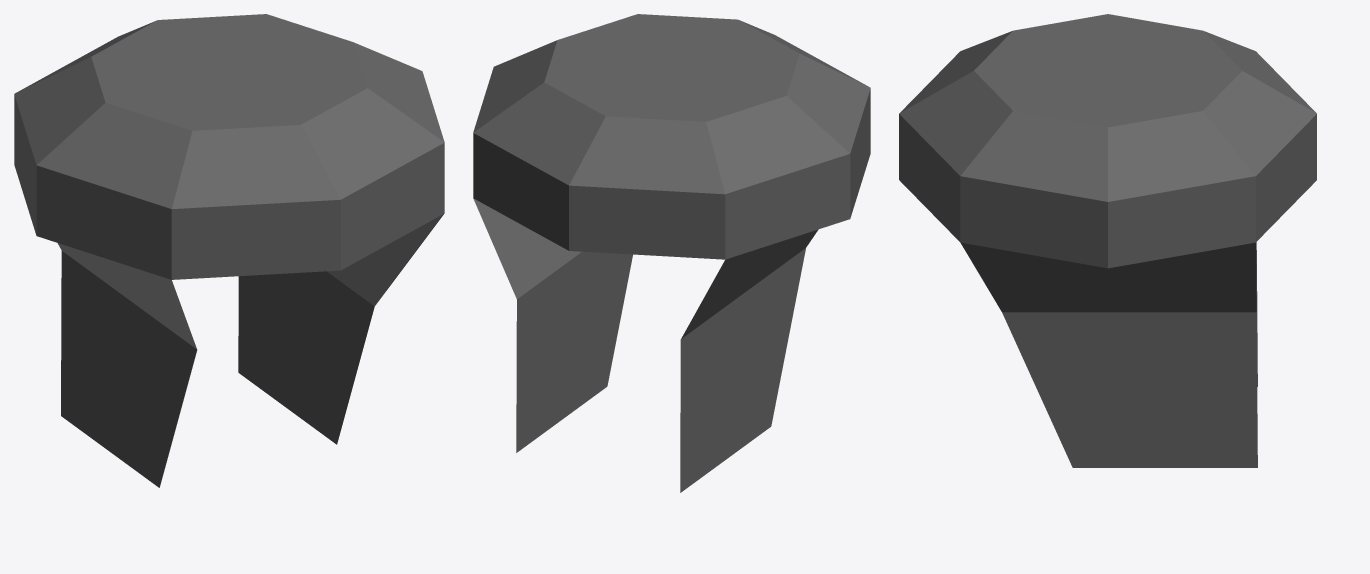
The model's file is wheel.fbx.
The picture shows the model from 3 angles, left to right: view 1: azimuth 30°, elevation 25°; view 2: azimuth 150°, elevation 25°; view 3: azimuth 270°, elevation 25°; orthographic projection. The views are drawn at different scales.
Visible parts, largest first — view 1: Wheel; view 2: Wheel; view 3: Wheel.
Part boxes in pixels (<box>): Wheel: <box>14,14,444,487</box>; Wheel: <box>473,14,870,492</box>; Wheel: <box>899,14,1316,467</box>.
Size of the model in its own units: 10.5 by 13 by 11.48.
